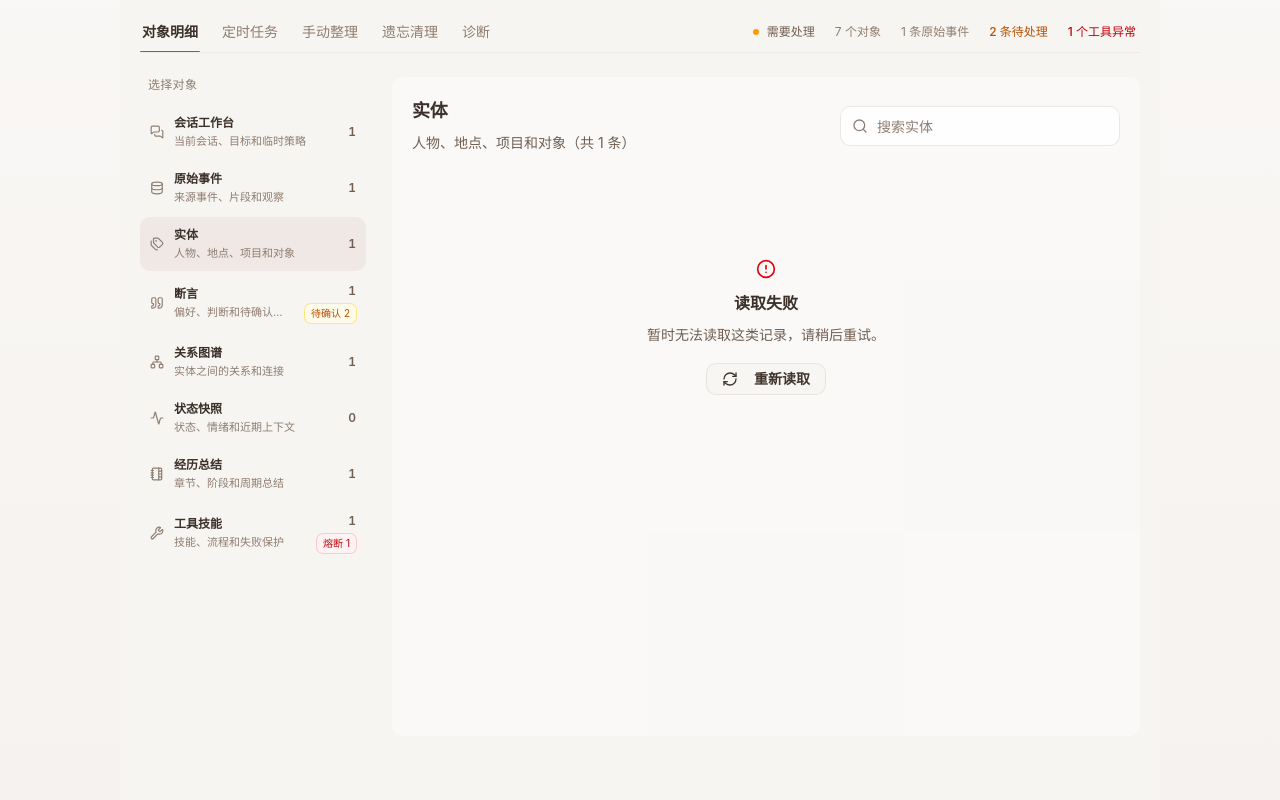
Test: MemoryGovernancePage › shows a visible load error and retries the active category
Expected: the message shows "暂时无法读取这类记录，请稍后重试。", [647, 326, 885, 343]
What coordinates should you click on to do the following:
click the button "重新读取"
I would click on:
 (766, 379)
Its box is [706, 363, 826, 395].
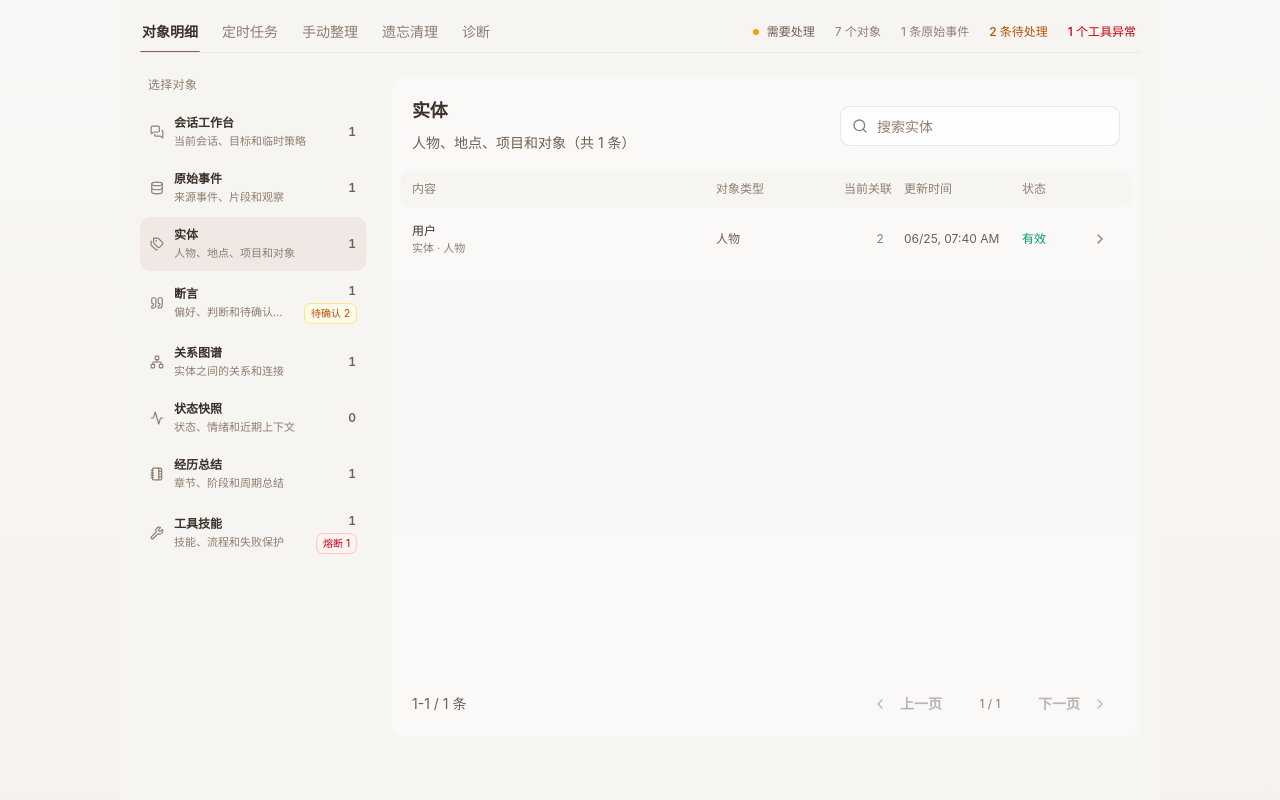
Expected: the button with aria-label "打开记录 用户" is shown, [400, 211, 1132, 268]
